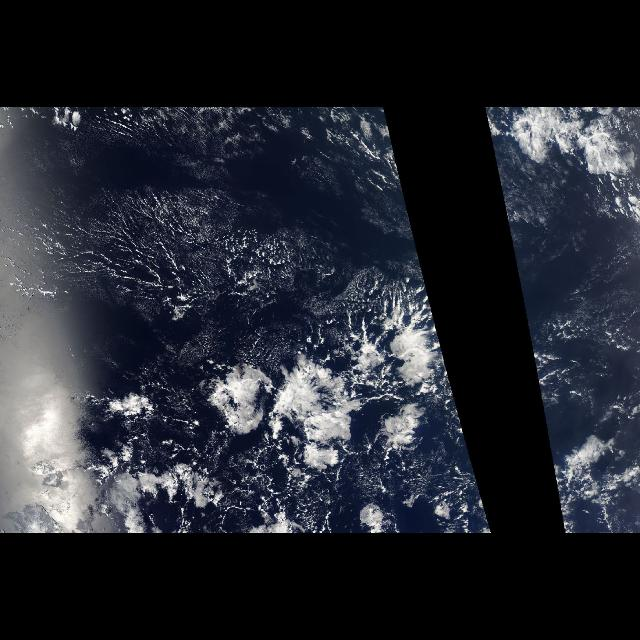Fish: (266, 302, 434, 444)
Flower: (182, 316, 448, 482)
Gravel: (148, 437, 470, 525)
Sugar: (9, 192, 329, 308), (515, 190, 639, 352)
